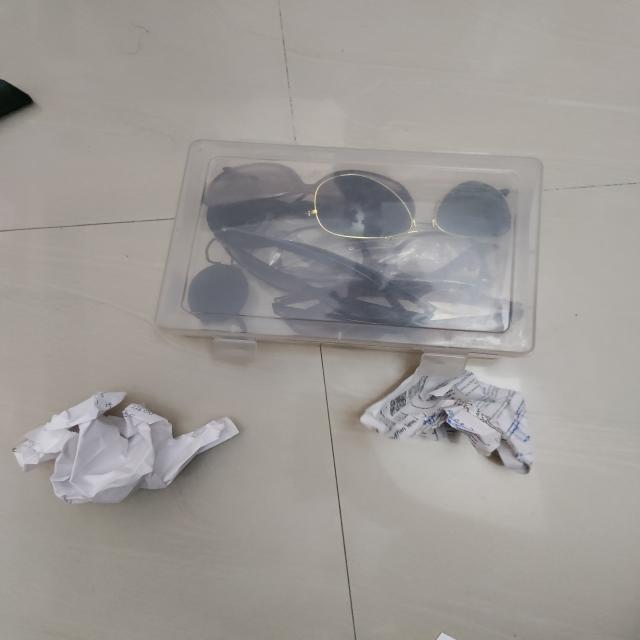dry: (158, 137, 550, 357), (14, 385, 241, 506), (358, 354, 542, 476), (0, 74, 44, 122)
